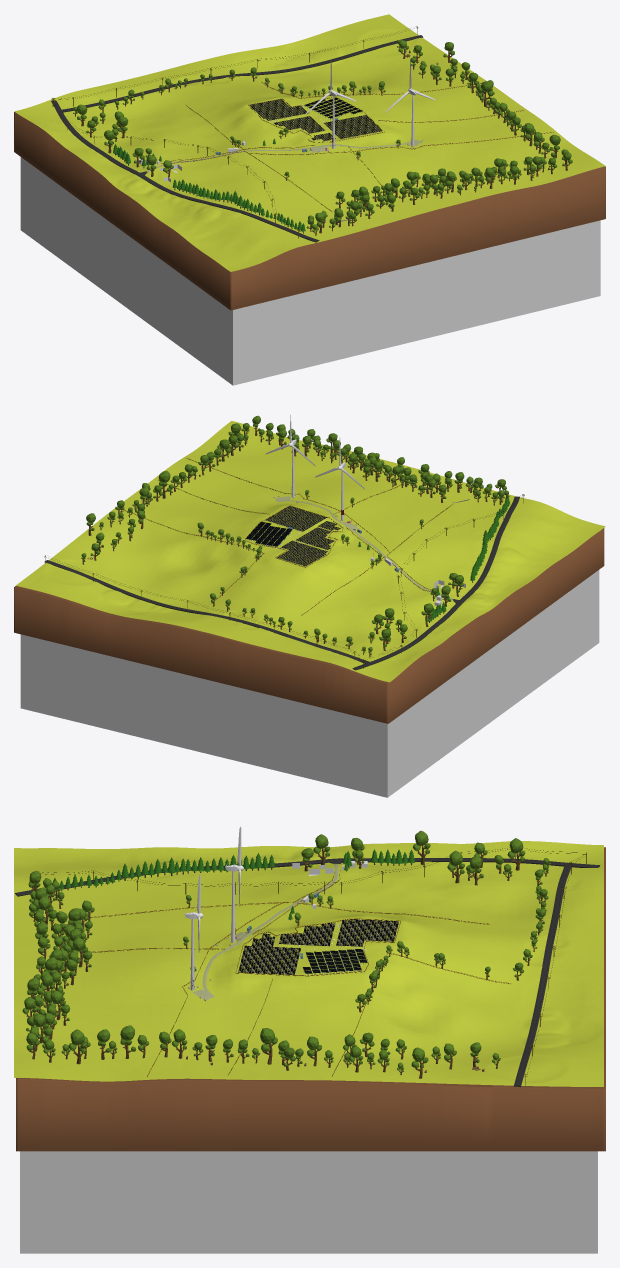
The model's file is little-hepburn-energy.glb.
3 views of the same model, one above another, from view 1: azimuth 30°, elevation 25°; view 2: azimuth 150°, elevation 25°; view 3: azimuth 270°, elevation 25° (orthographic). The views are drawn at different scales.
Parts seen in each view (by area): view 1: Grass, Base, Soil, Road-01, Road-02; view 2: Grass, Base, Soil, Road-01, Road-02; view 3: Grass, Base, Soil, Road-02, Road-01, Track.
Boxes of the visible parts, left/top/right/bottom form: Grass: left=14, top=14, right=605, bottom=271; Base: left=20, top=157, right=600, bottom=385; Soil: left=14, top=112, right=605, bottom=310; Road-01: left=51, top=100, right=319, bottom=242; Road-02: left=61, top=35, right=423, bottom=112; Grass: left=16, top=421, right=605, bottom=682; Base: left=20, top=570, right=599, bottom=797; Soil: left=14, top=528, right=604, bottom=723; Road-01: left=352, top=496, right=519, bottom=670; Road-02: left=44, top=560, right=369, bottom=663; Grass: left=14, top=841, right=603, bottom=1086; Base: left=20, top=1151, right=597, bottom=1253; Soil: left=16, top=847, right=605, bottom=1151; Road-02: left=514, top=865, right=570, bottom=1087; Road-01: left=15, top=858, right=600, bottom=896; Track: left=202, top=863, right=338, bottom=996.
Size of the model in its own units: 502 by 283 by 502.
Materials: 45 (3 with a texture image).
